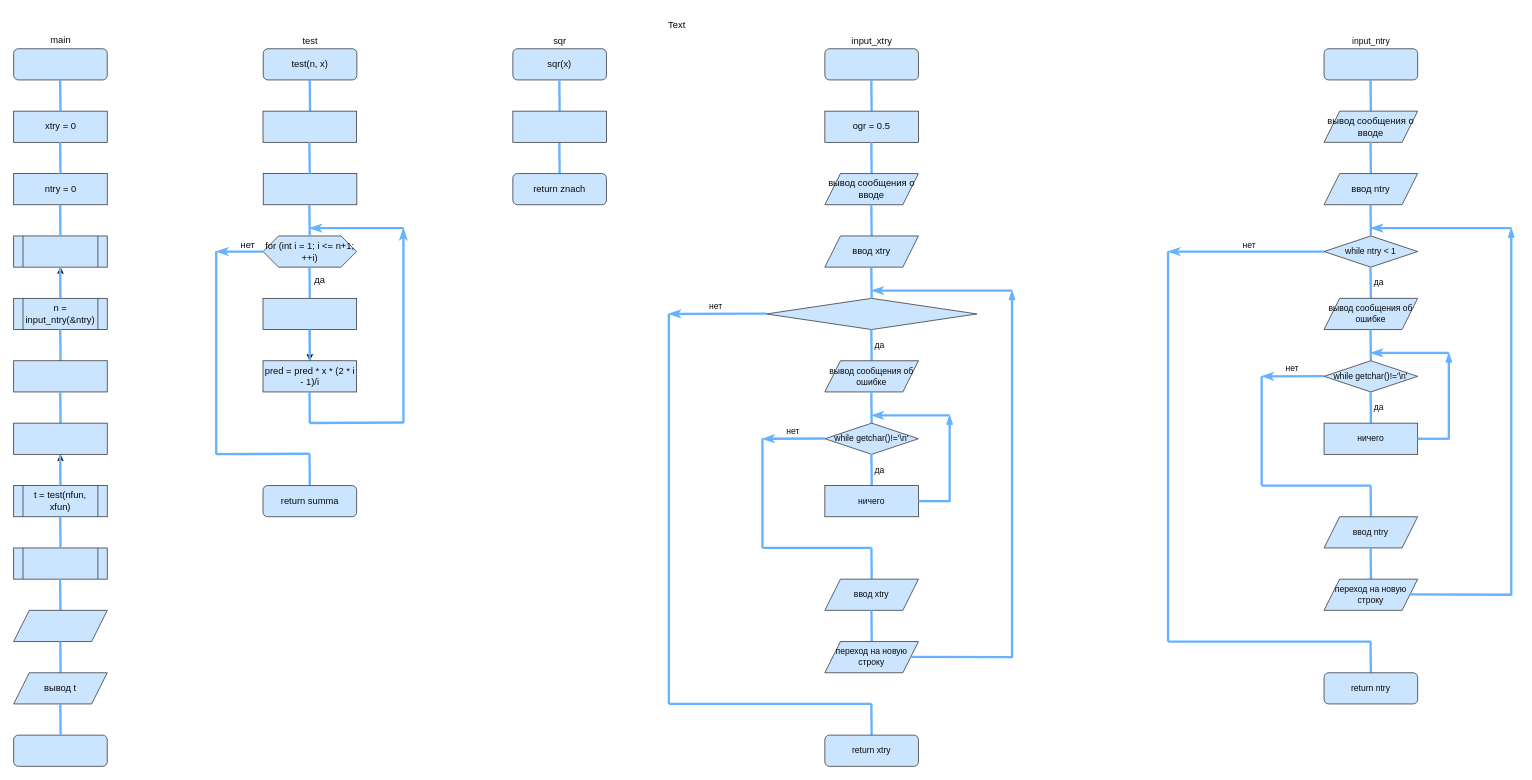
The diagram is 1532 pixels wide and 780 high, and some of its shapes have lost their labels. Here are the shapes that lost their labels. From the top down, the centre of each, then its label:
At point (60, 64): "Начало".
At point (871, 64): "input_xtry(xtry)".
At point (1370, 64): "input_ntry(ntry)".
At point (309, 126): "summa = 0".
At point (559, 126): "znach = x / sqrt(1 - 2*x)".
At point (309, 189): "pred = x".
At point (60, 251): "x = input_xtry(&xtry)".
At point (309, 314): "summa = summa + pred".
At point (871, 314): "while (xtry <= -1*ogr or xtry > ogr or gethcar()!='\n' )".
At point (60, 376): "xfun = xtry".
At point (60, 438): "nfun = ntry".
At point (60, 563): "root = sqr(xfun)".
At point (60, 626): "вывод root".
At point (60, 750): "Конец".
